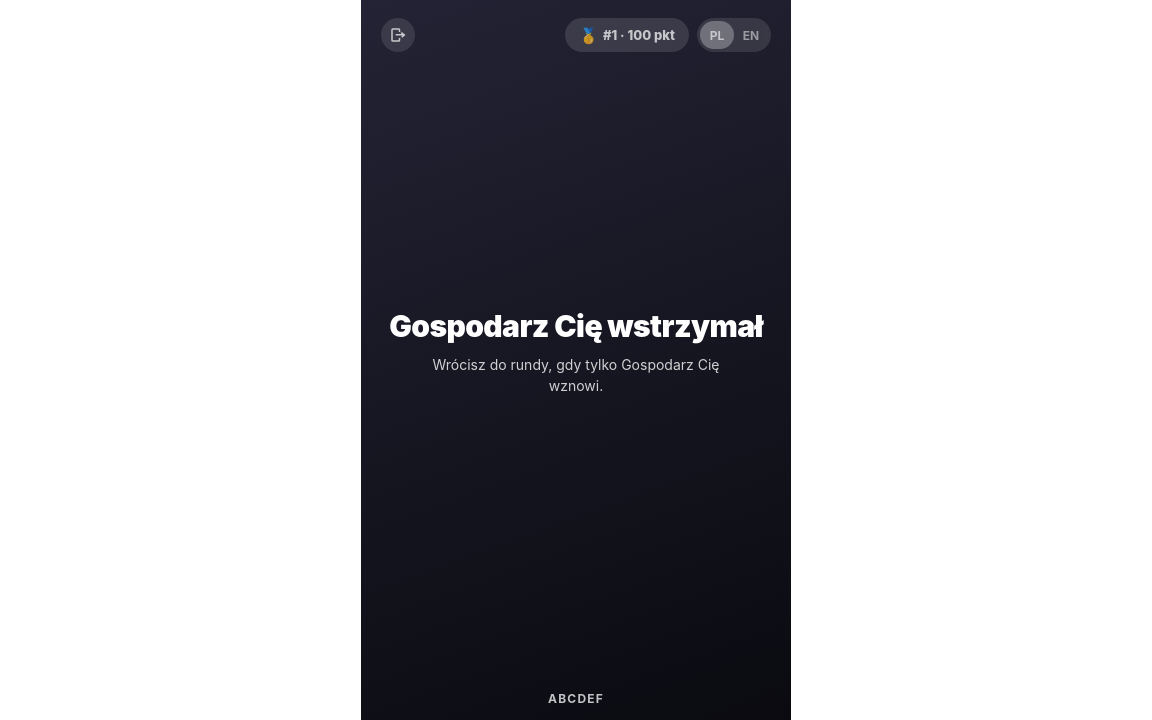
Test: a Guest the Host paused › can still open the Leaderboard
Click the button "🥇 #1 · 100 pkt": {"x": 627, "y": 35} [565,18,689,52]
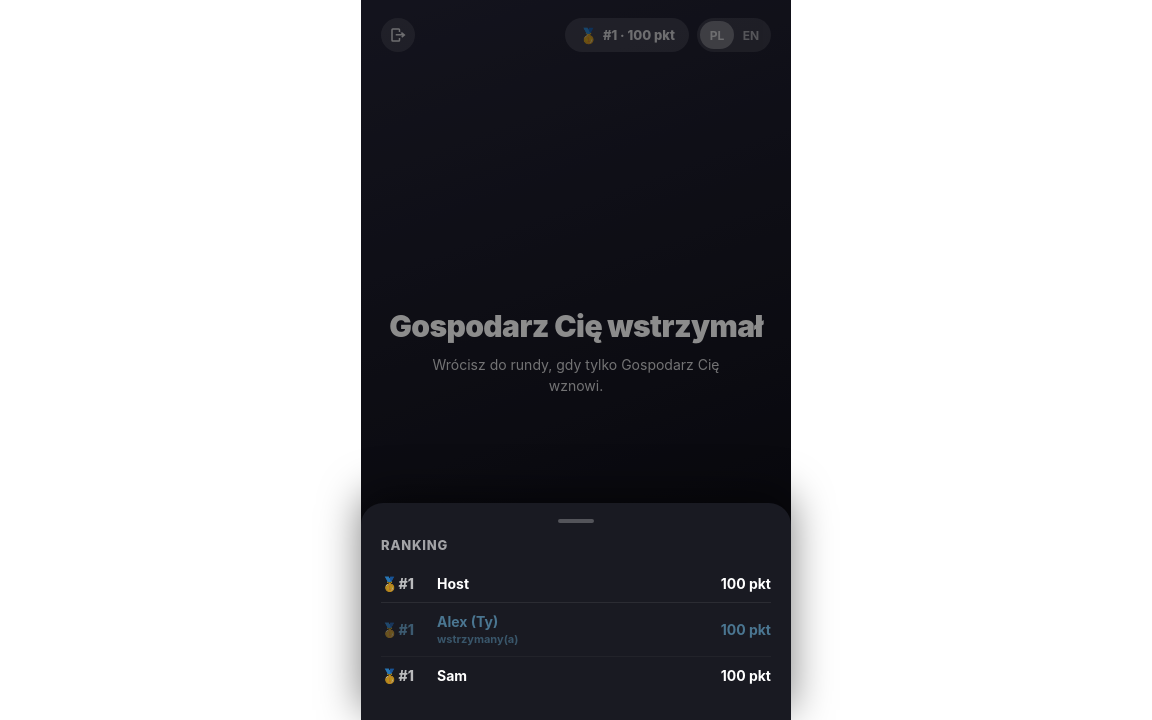
Result: the dialog named "Leaderboard" is shown at [361,503,791,719]
